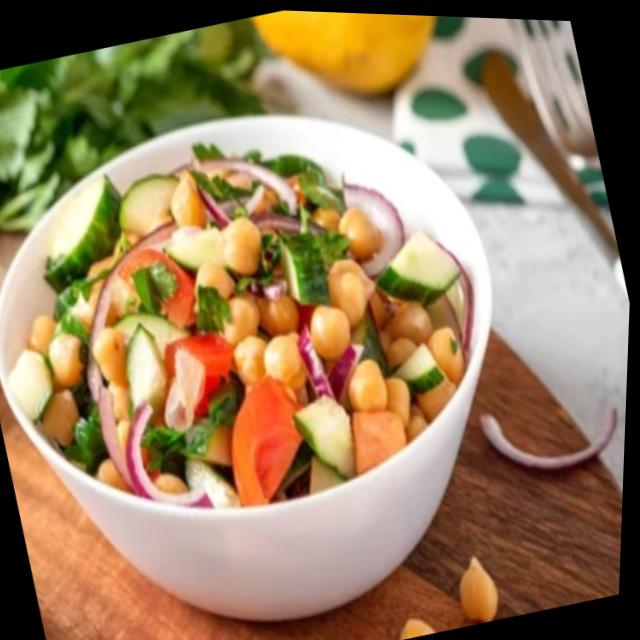SUNDAL: (0, 115, 485, 526)
